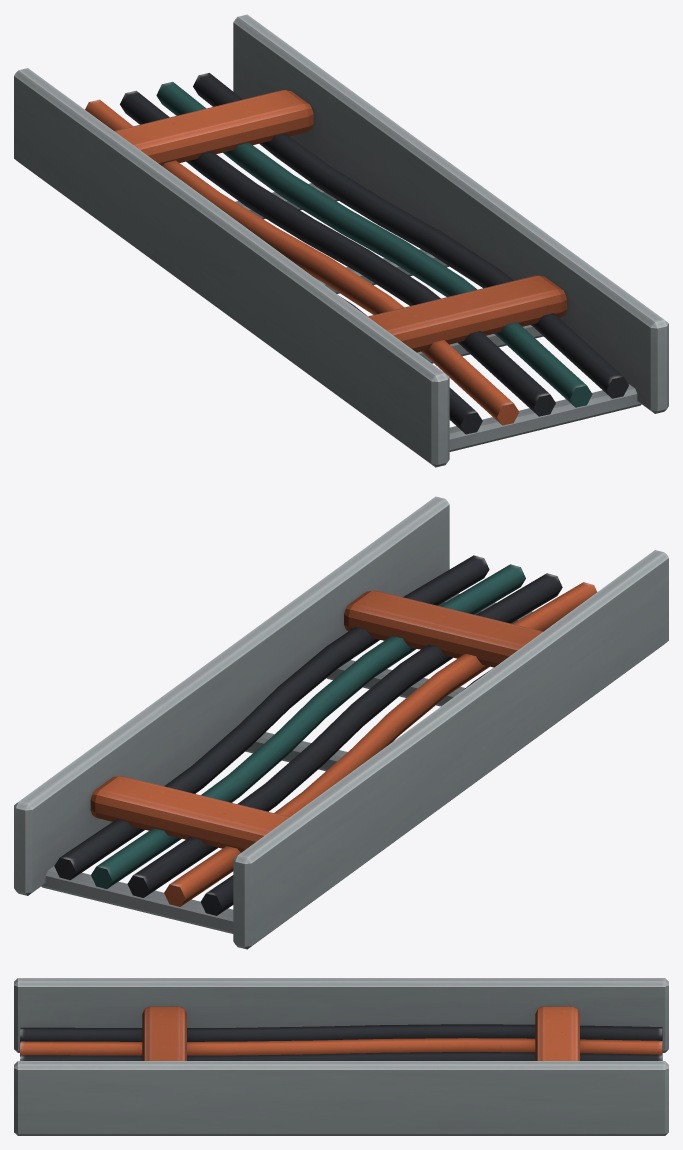
File: prop_cable_tray.glb
The picture shows the model from 3 angles, top to bottom: view 1: azimuth 30°, elevation 25°; view 2: azimuth 150°, elevation 25°; view 3: azimuth 270°, elevation 25°; orthographic projection. The views are drawn at different scales.
Visible parts, largest first — view 1: prop_cable_tray_mesh; view 2: prop_cable_tray_mesh; view 3: prop_cable_tray_mesh.
Boxes of the visible parts, x1,y1,x2,y2 form: prop_cable_tray_mesh: (14,14,668,467); prop_cable_tray_mesh: (14,496,668,949); prop_cable_tray_mesh: (14,978,668,1135).
Size of the model in its own units: 0.325 by 0.124 by 1.
Materials: 1 (1 with a texture image).
